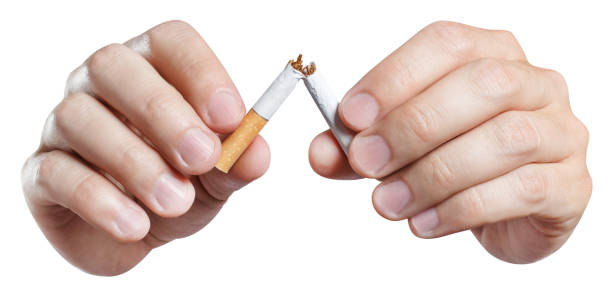cigarette: (213, 52, 304, 174), (299, 59, 356, 157)
